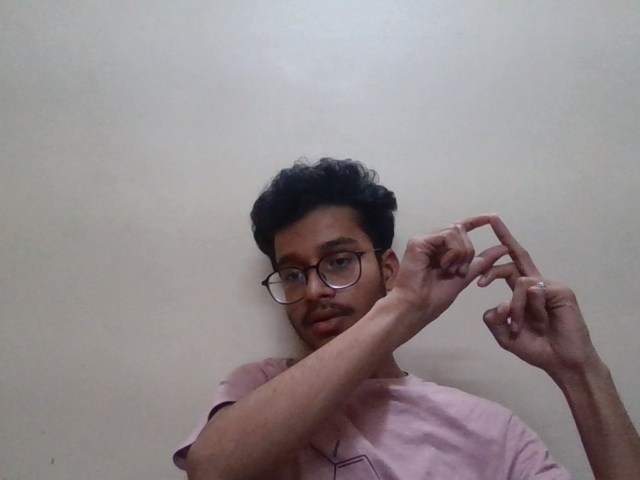R: (379, 215, 603, 380)
